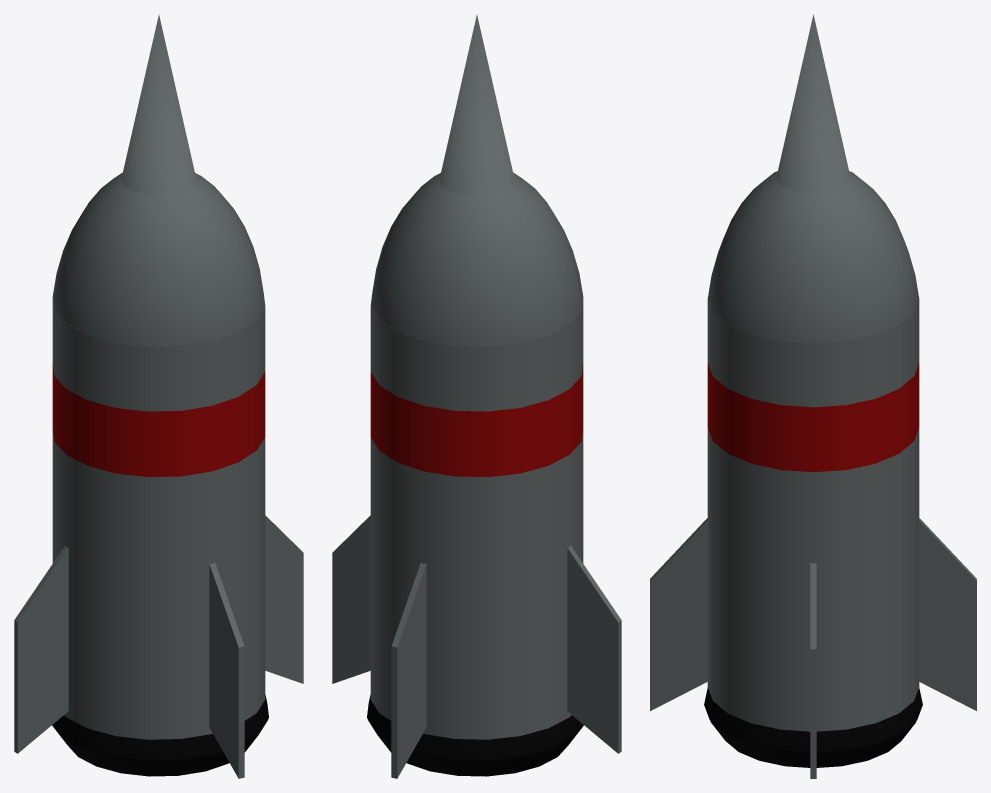
File: Missile.fbx
3 views of the same model, side by side, from view 1: azimuth 30°, elevation 25°; view 2: azimuth 150°, elevation 25°; view 3: azimuth 270°, elevation 25° (orthographic).
Parts seen in each view (by area): view 1: pCylinder1, pSphere1, pCube2, pCone1, pSphere2, pCube3, pCube1; view 2: pCylinder1, pSphere1, pCube2, pCone1, pSphere2, pCube4, pCube1; view 3: pCylinder1, pSphere1, pCube3, pCube4, pSphere2, pCone1, pCube1.
Boxes of the visible parts, bbox=[...] form: pCylinder1: bbox=[52, 297, 265, 739]; pSphere1: bbox=[52, 172, 265, 347]; pCube2: bbox=[14, 545, 68, 753]; pCone1: bbox=[121, 15, 196, 195]; pSphere2: bbox=[52, 694, 268, 776]; pCube3: bbox=[209, 562, 244, 778]; pCube1: bbox=[265, 515, 303, 683]; pCylinder1: bbox=[370, 297, 583, 739]; pSphere1: bbox=[370, 172, 583, 347]; pCube2: bbox=[567, 545, 621, 753]; pCone1: bbox=[439, 15, 514, 195]; pSphere2: bbox=[367, 694, 583, 776]; pCube4: bbox=[391, 562, 426, 778]; pCube1: bbox=[332, 515, 370, 683]; pCylinder1: bbox=[707, 299, 919, 731]; pSphere1: bbox=[707, 171, 919, 343]; pCube3: bbox=[650, 518, 708, 710]; pCube4: bbox=[918, 518, 976, 710]; pSphere2: bbox=[704, 687, 922, 767]; pCone1: bbox=[776, 14, 850, 193]; pCube1: bbox=[810, 563, 816, 778].
Size of the model in its own units: 3.05 by 7.37 by 3.05.
